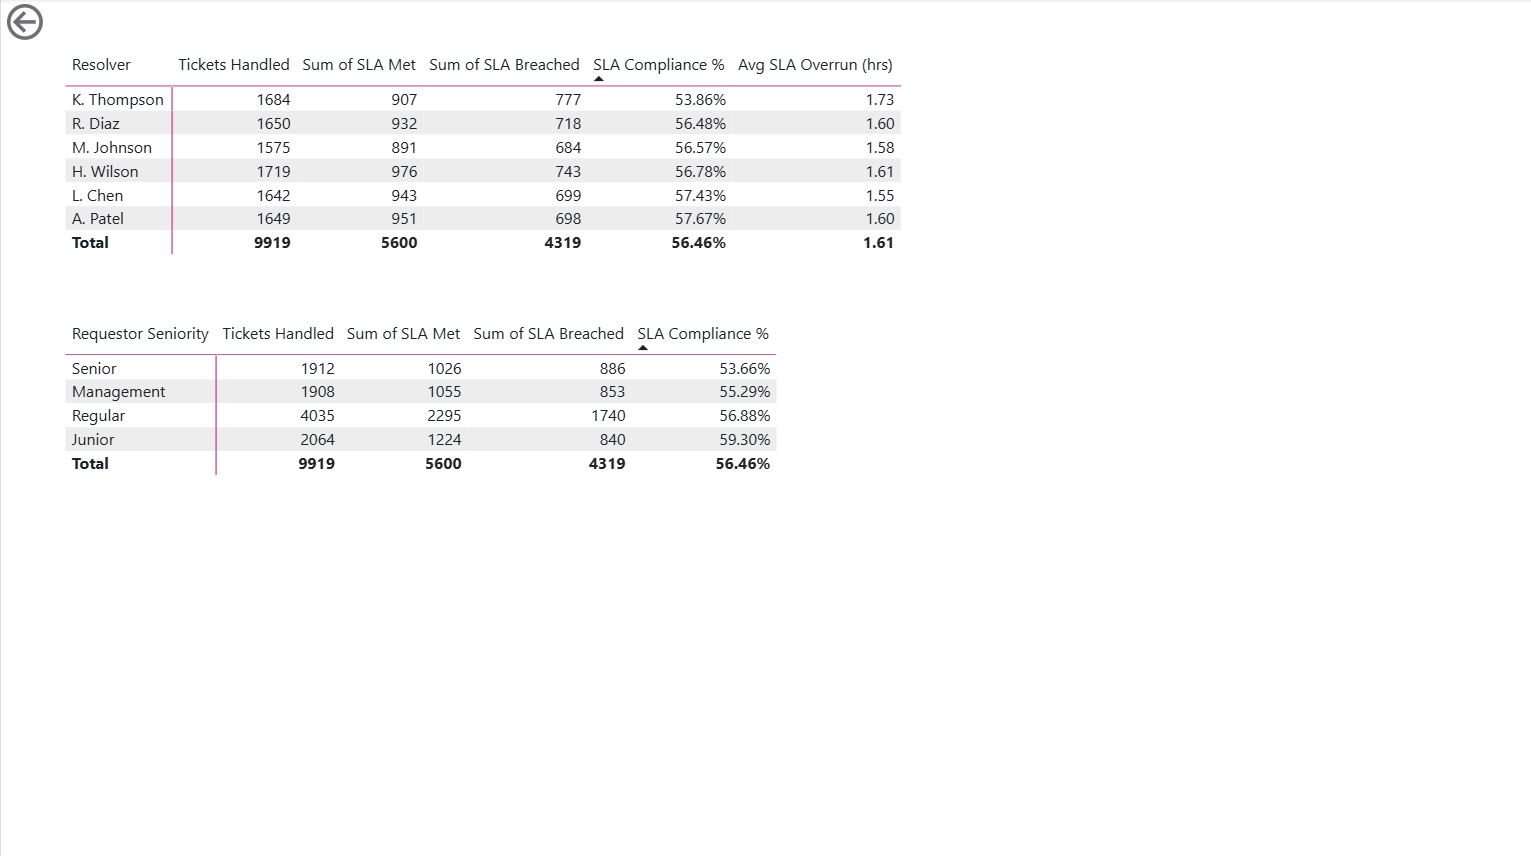

Layout of this report page (visuals, bound fields, positions):
{"tool":"powerbi","page":{"name":"SLA Performance - Detailed View","canvas":[1280,720],"ordinal":3},"visuals":[{"type":"actionButton","box":[0,0,100,40],"z":0},{"type":"pivotTable","fields":{"Rows":["SLA Project.Resolver"],"Values":["SLA Project.Ticket No","SLA Project.SLA Met","SLA Project.SLA Breached","SLA Project.SLA Met%","SLA Project.Average Hours Over SLA"]},"box":[49.4,39.8,772.6,190.7],"z":1000},{"type":"pivotTable","fields":{"Values":["SLA Project.Ticket No","SLA Project.SLA Met","SLA Project.SLA Breached","SLA Project.SLA Met%"],"Rows":["SLA Project.Requestor Seniority"]},"box":[49.4,264.8,690.2,188],"z":2000}]}

Visuals, with their boxes in screenshot pixels (x1, y1, x2, y2), scaled from the page's 1280x720 canvas onto the 1531x856 screenshot:
actionButton: (x1=0, y1=0, x2=120, y2=48)
pivotTable - SLA Project.Resolver x SLA Project.Ticket No: (x1=59, y1=47, x2=983, y2=274)
pivotTable - SLA Project.Ticket No x SLA Project.SLA Met: (x1=59, y1=315, x2=885, y2=538)
